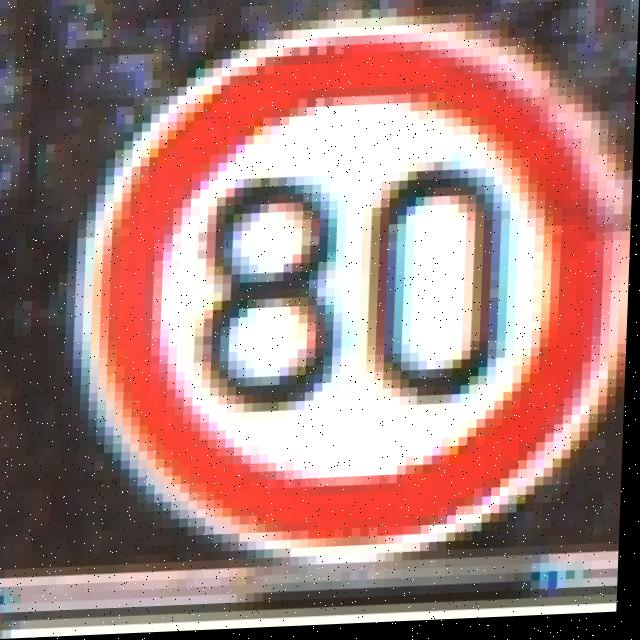speed_limit_80: (67, 29, 621, 580)
